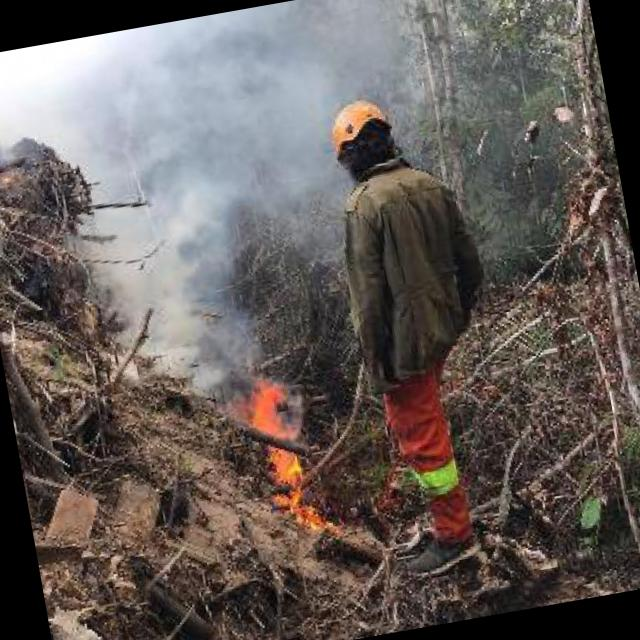fire: (234, 371, 326, 538)
smoke: (70, 124, 270, 420)
